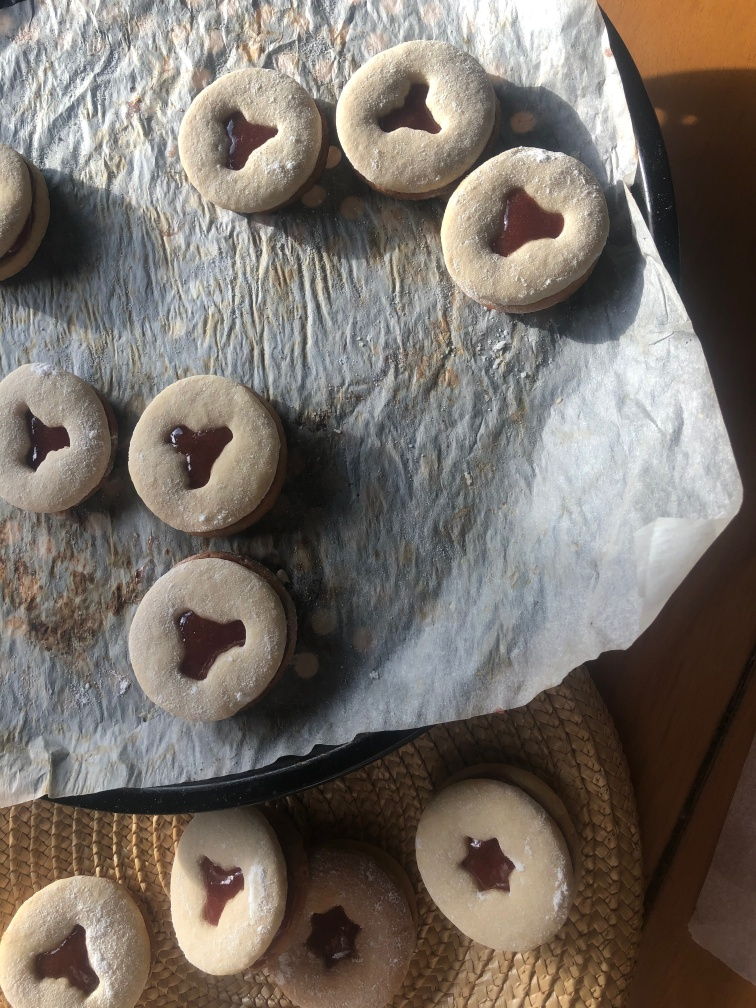christmas shortbread with jam: (441, 143, 615, 309), (415, 789, 571, 960), (128, 554, 289, 718), (338, 38, 492, 195), (128, 378, 273, 533), (173, 64, 321, 215), (4, 868, 160, 1008), (173, 810, 284, 978), (4, 362, 115, 521), (288, 864, 405, 1007)
